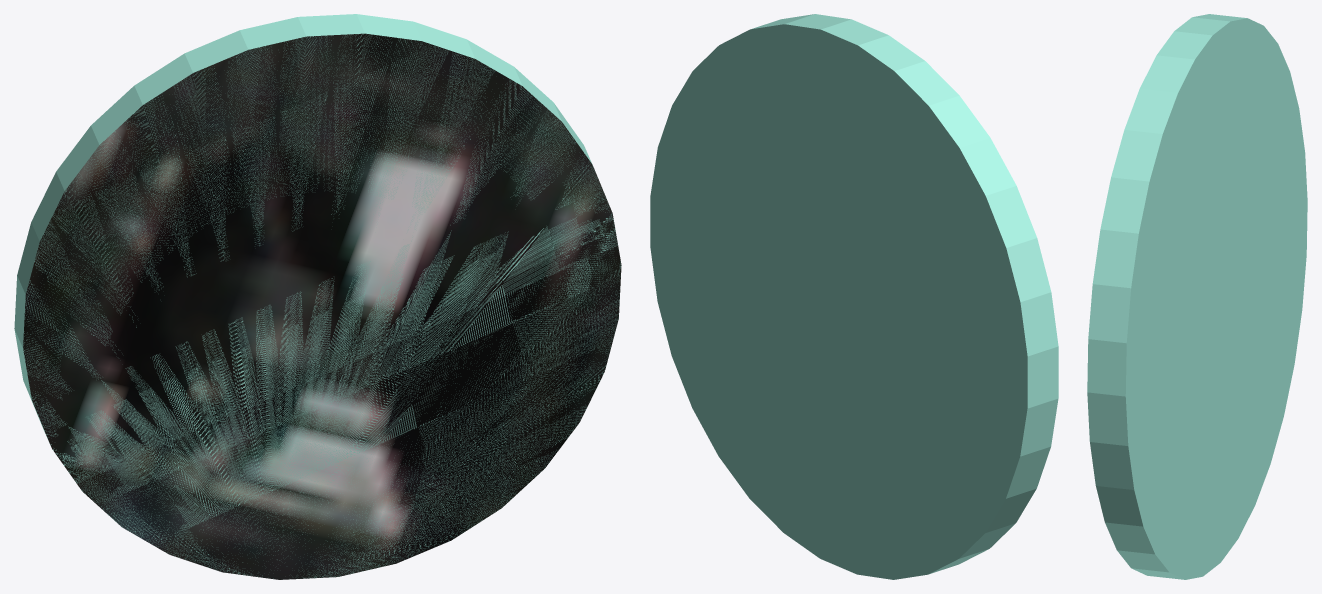
The model's file is SampleCar_01_LB_R.fbx.
The picture shows the model from 3 angles, left to right: view 1: azimuth 30°, elevation 25°; view 2: azimuth 150°, elevation 25°; view 3: azimuth 270°, elevation 25°; orthographic projection. The views are drawn at different scales.
Parts seen in each view (by area): view 1: lamps_LOD0, UTM_lamps; view 2: UTM_lamps; view 3: UTM_lamps.
Part boxes in pixels (<box>): lamps_LOD0: <box>23,33,621,579</box>; UTM_lamps: <box>14,14,621,578</box>; UTM_lamps: <box>650,14,1058,579</box>; UTM_lamps: <box>1087,14,1307,579</box>.
Size of the model in its own units: 11.88 by 12.27 by 4.78.
